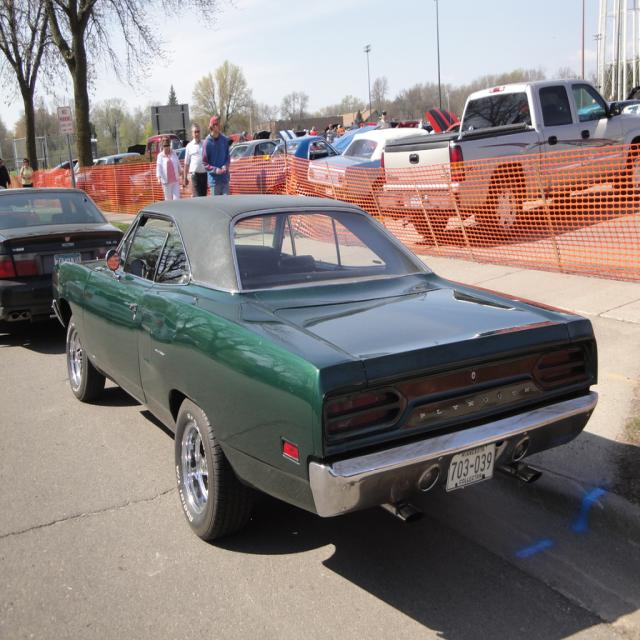car: (45, 192, 603, 544)
